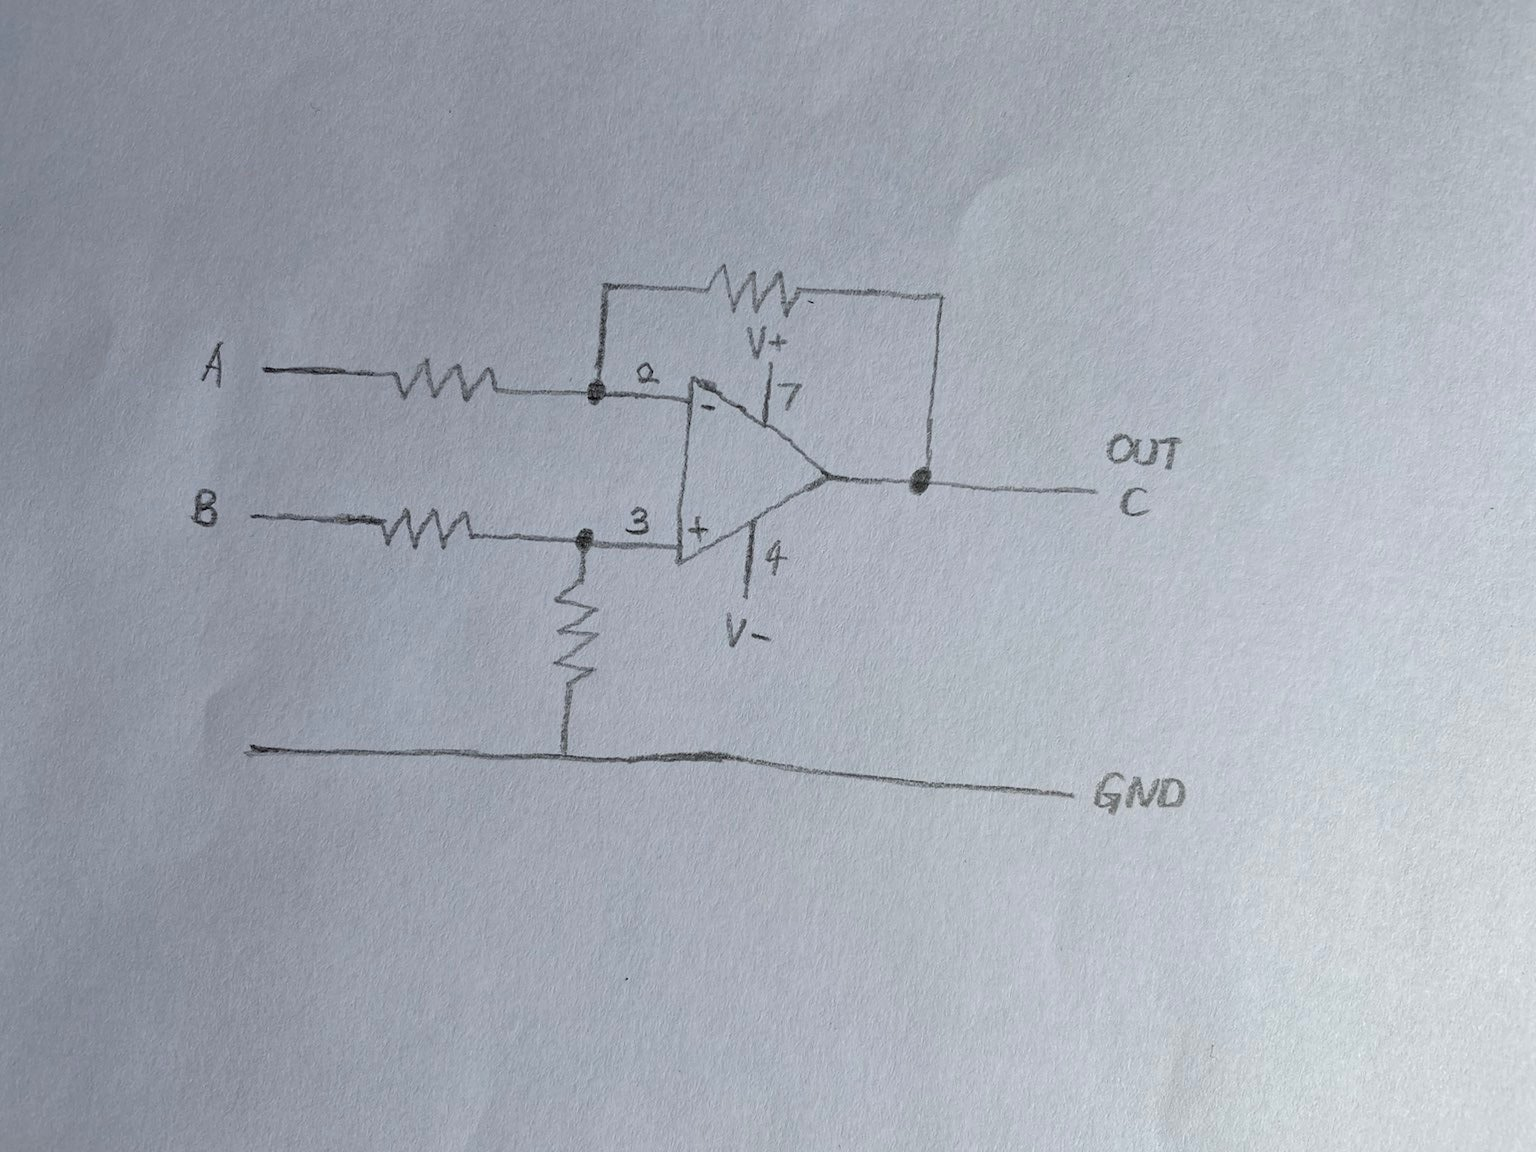junction: (558, 506, 606, 566), (897, 453, 947, 503), (916, 275, 963, 324), (539, 733, 587, 781), (582, 261, 626, 309), (578, 365, 619, 415)
operational_amplifier: (668, 361, 825, 600)
resistor: (689, 257, 809, 318), (382, 353, 504, 409), (552, 570, 606, 692), (371, 502, 481, 558)
terminal: (229, 725, 291, 770), (241, 497, 299, 537), (1032, 773, 1081, 818), (254, 351, 310, 387), (1064, 480, 1110, 508)
text: (1089, 764, 1191, 826), (1101, 426, 1190, 474), (181, 478, 225, 535), (195, 334, 231, 390), (1118, 480, 1160, 525), (772, 373, 807, 417), (755, 536, 790, 580), (623, 494, 656, 540), (714, 606, 746, 651), (740, 322, 768, 358), (685, 509, 711, 545), (633, 357, 663, 387), (747, 624, 779, 651), (694, 397, 723, 420), (768, 326, 791, 353)
